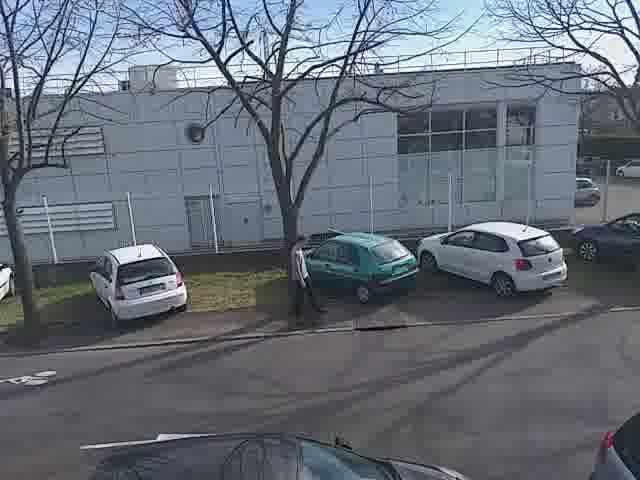persona: (283, 228, 331, 328)
